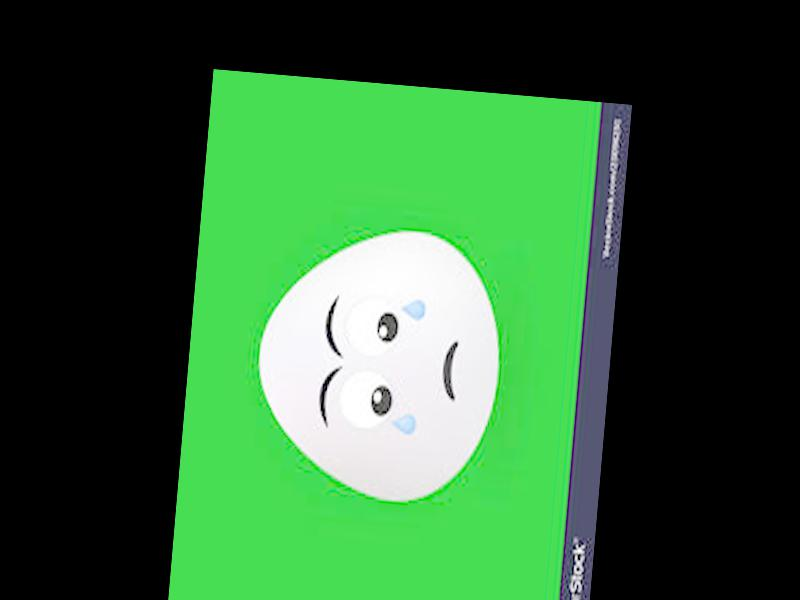Eggs: (250, 222, 508, 510)
